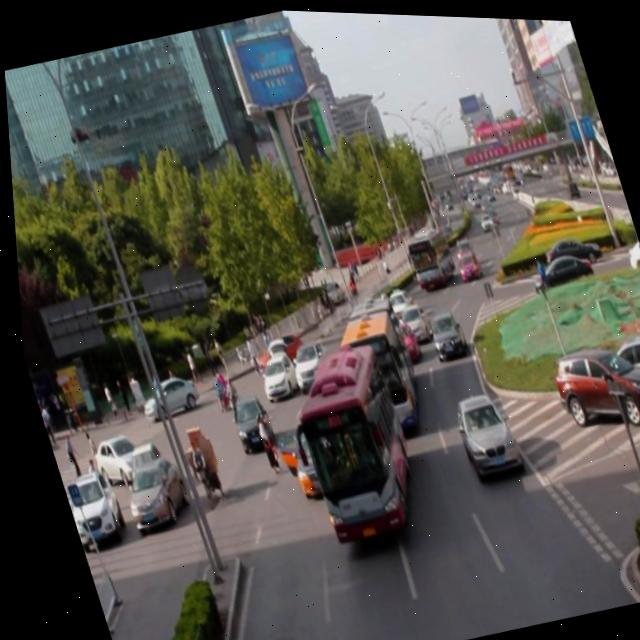car: (440, 381, 517, 478), (274, 412, 342, 491), (245, 329, 307, 380), (221, 389, 270, 453), (247, 344, 296, 401), (280, 334, 329, 390), (417, 303, 464, 359), (391, 300, 430, 347), (379, 315, 416, 361), (379, 283, 416, 326)
van: (276, 342, 421, 541), (318, 287, 425, 445)
